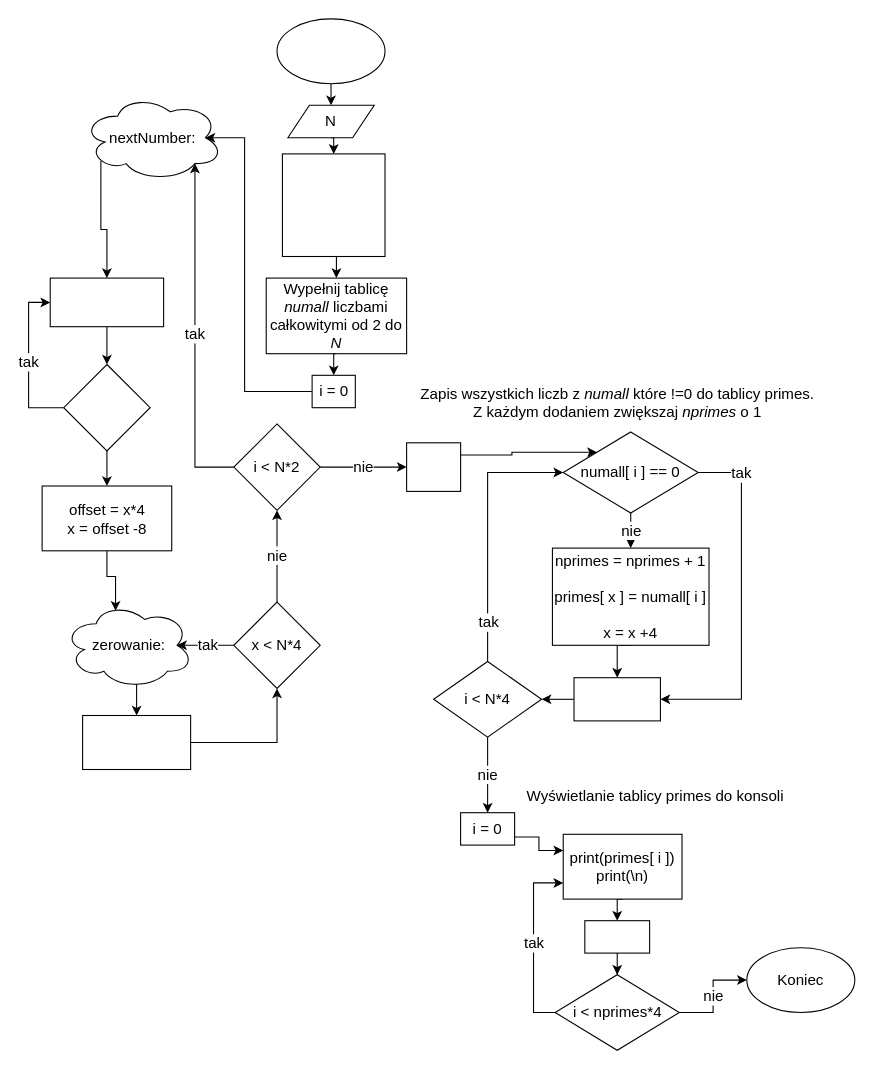
Image size: 874x1069. Some labels were removed from this diagram. The centre of each missing label's shape, as x and y in pixels:
i = i + 4: pixel 616 699
i = i +4: pixel 617 936
numall = { } primes = { } nprimes = 0 x = 2 i = 0: pixel 333 204
Start: pixel 330 51
x = 0 i = 0: pixel 433 466
x = numall[ i ] i = i + 4: pixel 106 302
x = x + offset numall[ x ] = 0: pixel 136 742
x == 0: pixel 106 407
